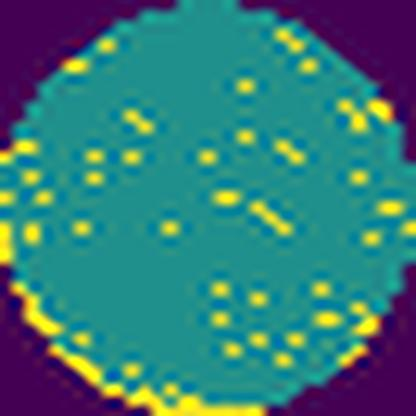Edge-Loc: (47, 342, 273, 415), (10, 281, 68, 336), (0, 220, 18, 265)
